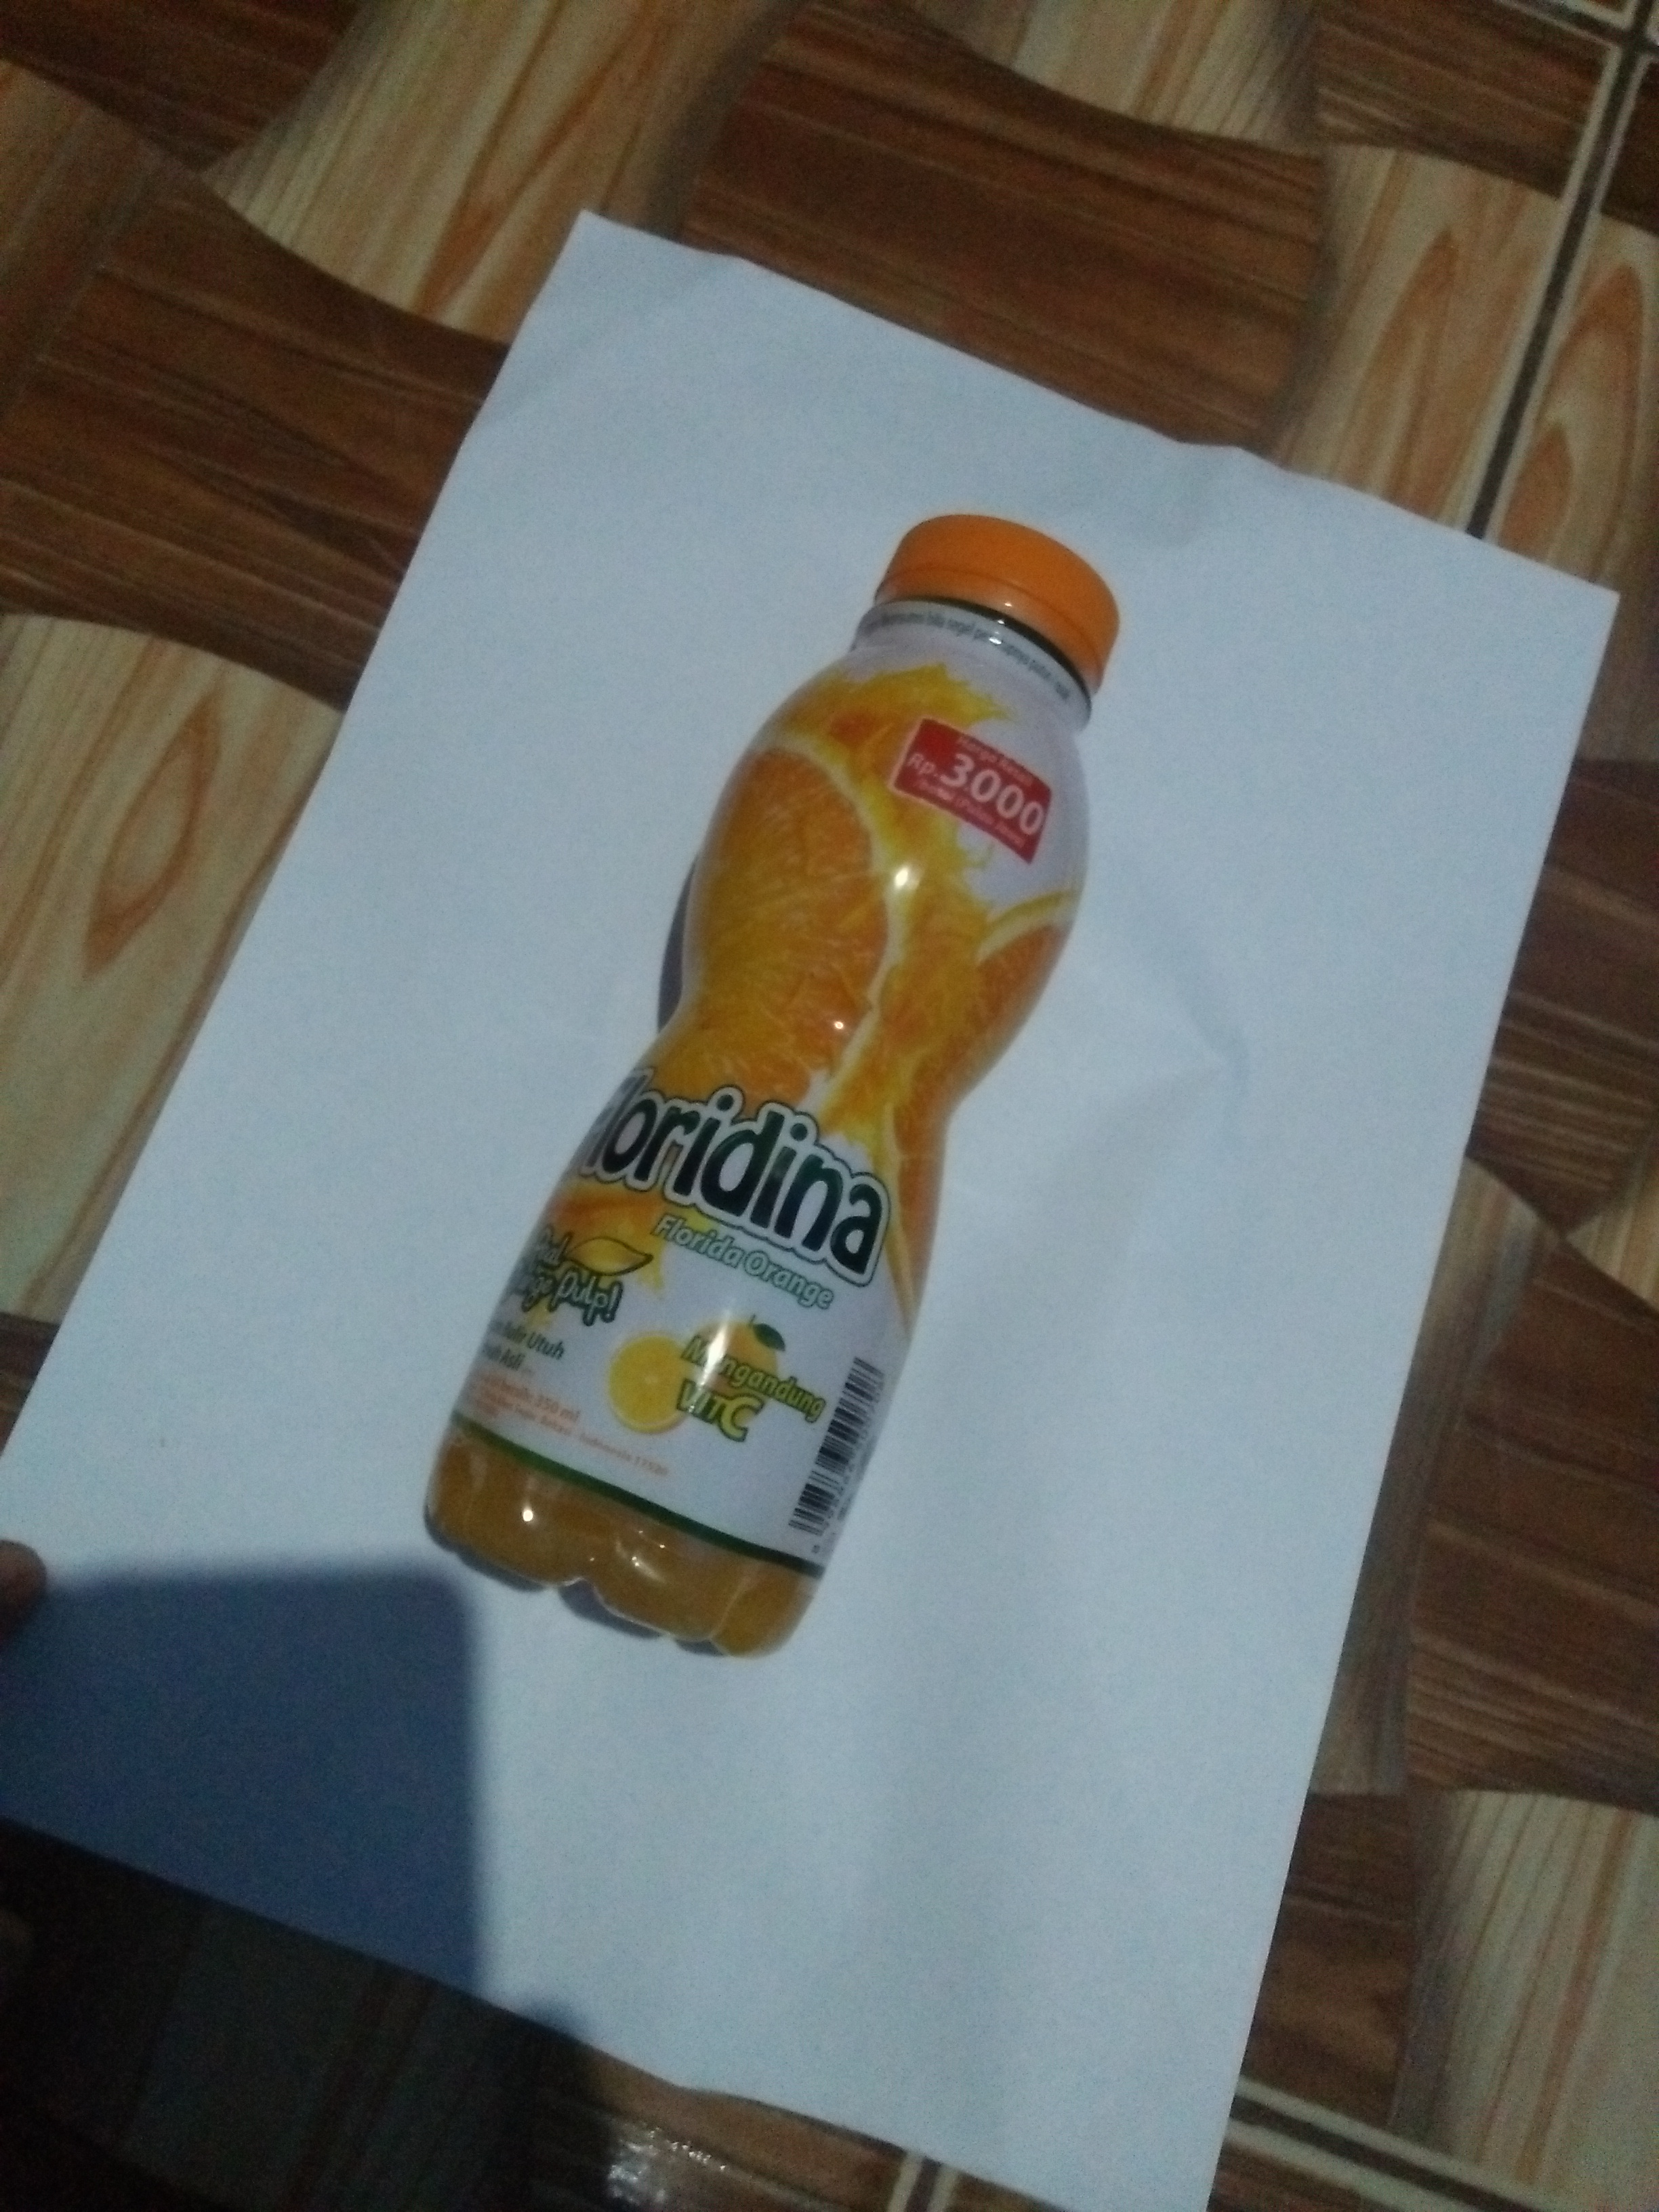Floridina: (422, 486, 1143, 1681)
